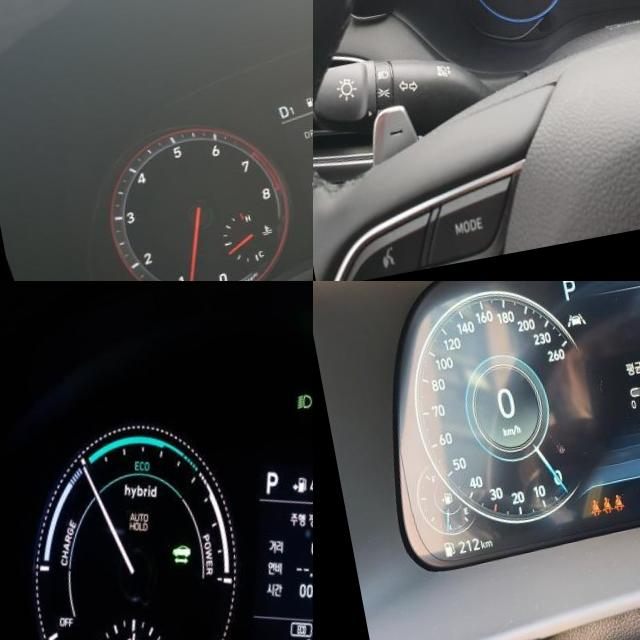LaneCenteringOff: (557, 321, 577, 337)
Low beam: (285, 404, 305, 425)
SideLamp: (305, 405, 313, 428)
